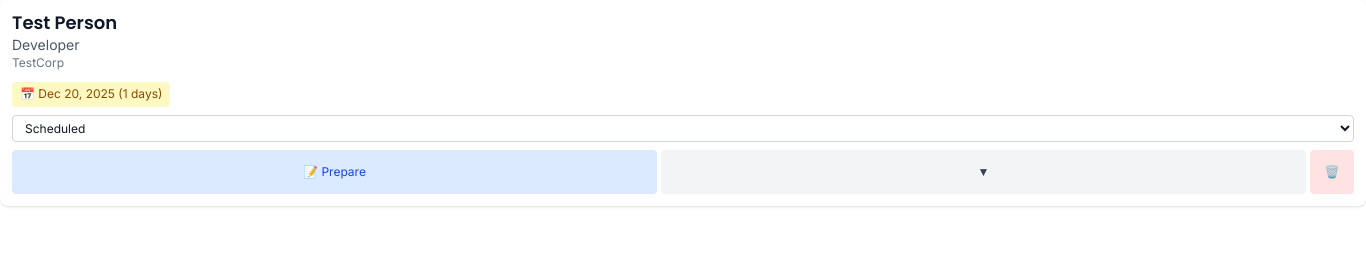
it: InformationalInterviewCard › expands to show details when expand button is clicked
This screenshot has width=1366, height=266.
Click the button "▼". click: (984, 172)
box: [661,150,1306,194]
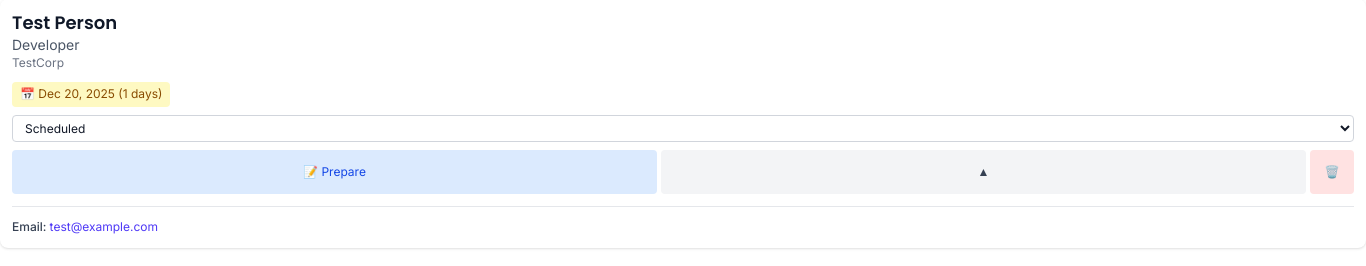
Now the link "test@example.com" is shown, box [50,219,158,234]
